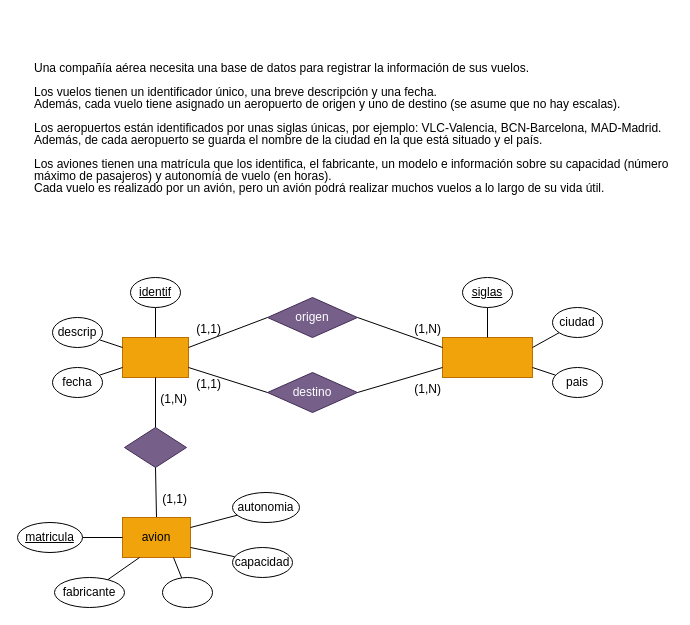
Image size: 690x625. Some labels were removed from this diagram. The box of each missing label's shape, as (x1, y1, x2, y2) in pixels:
aeropuerto: (442, 336, 532, 378)
modelo: (162, 576, 212, 608)
realiza: (124, 426, 186, 468)
vuelo: (122, 336, 188, 378)
